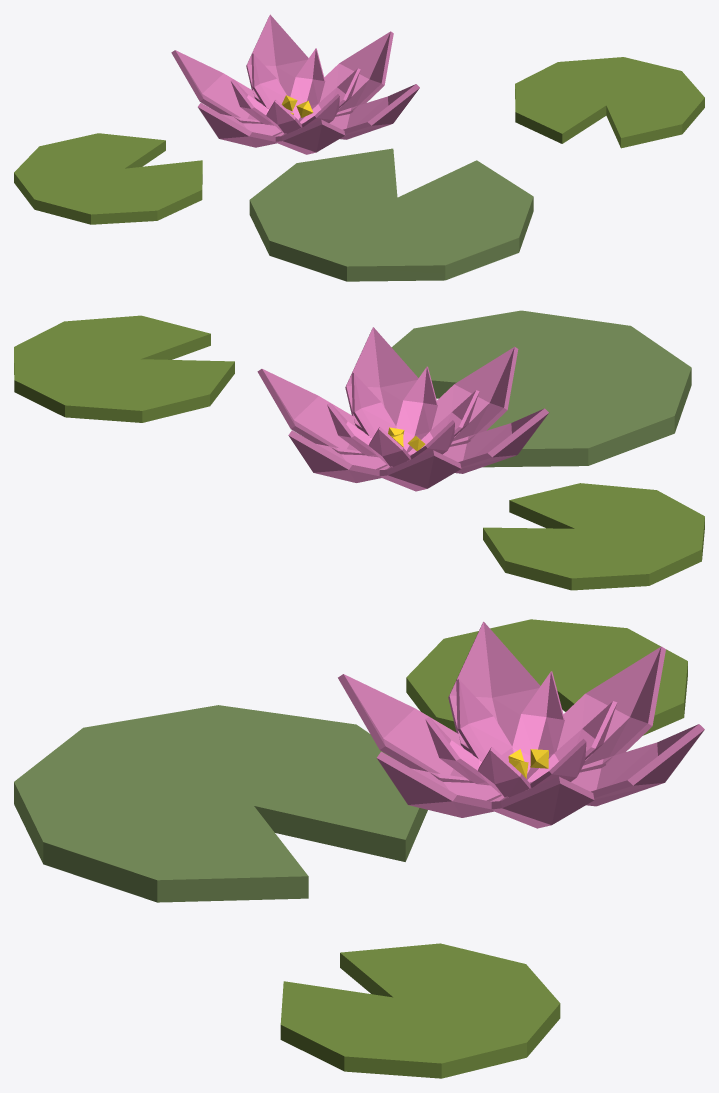
File: pond_plant3.FBX
3 renders of one model, top to bottom at view 1: azimuth 30°, elevation 25°; view 2: azimuth 150°, elevation 25°; view 3: azimuth 270°, elevation 25°, orthographic. The views are drawn at different scales.
Visible parts, largest first — view 1: Object007; view 2: Object007; view 3: Object007.
Part boxes in pixels (x1,y1,x2,y2): Object007: [14, 14, 704, 281]; Object007: [14, 310, 704, 590]; Object007: [14, 619, 704, 1078].
Size of the model in its own units: 7.55 by 0.9606 by 4.96.
Materials: 1 (1 with a texture image).
